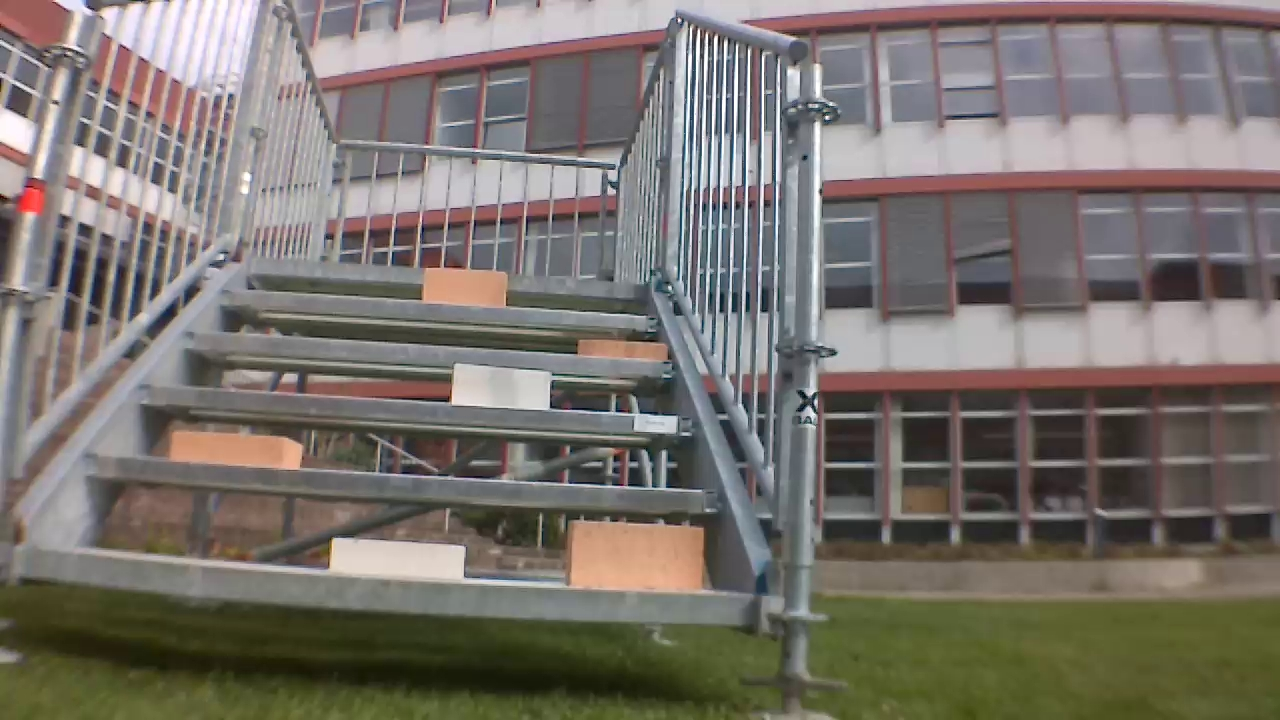brick: (567, 522, 703, 592), (329, 538, 463, 582), (171, 431, 301, 468), (453, 366, 550, 409), (423, 268, 506, 305), (578, 339, 665, 361)
edge: (23, 546, 756, 624), (85, 451, 718, 513), (140, 383, 691, 436), (185, 329, 673, 377), (222, 288, 656, 331), (251, 255, 640, 299)
stairs: (6, 3, 839, 716)
steps: (15, 245, 761, 634)
